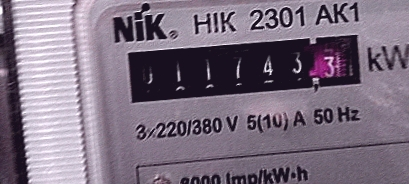0: (139, 55, 156, 85)
1: (200, 50, 214, 79), (171, 53, 183, 81)
3: (289, 44, 305, 73), (320, 51, 337, 77)
4: (259, 47, 275, 75)
7: (229, 47, 246, 76)
screen: (115, 16, 374, 113)
